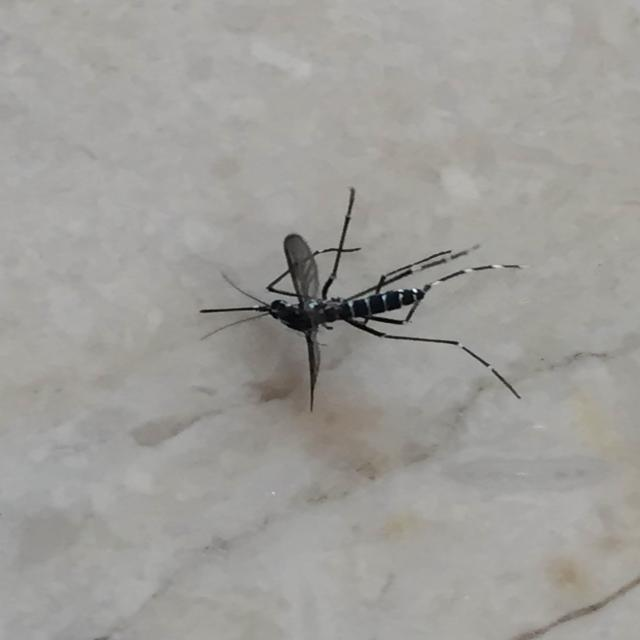albopictus: (205, 180, 532, 413)
